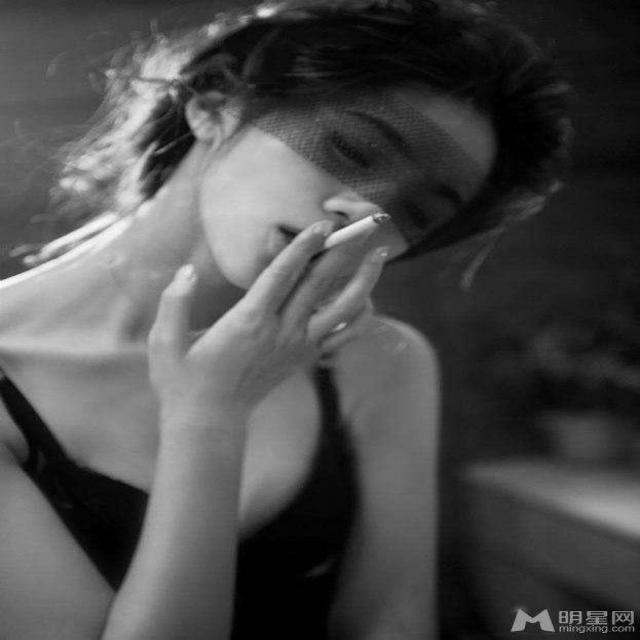cigarette: (270, 204, 396, 275)
